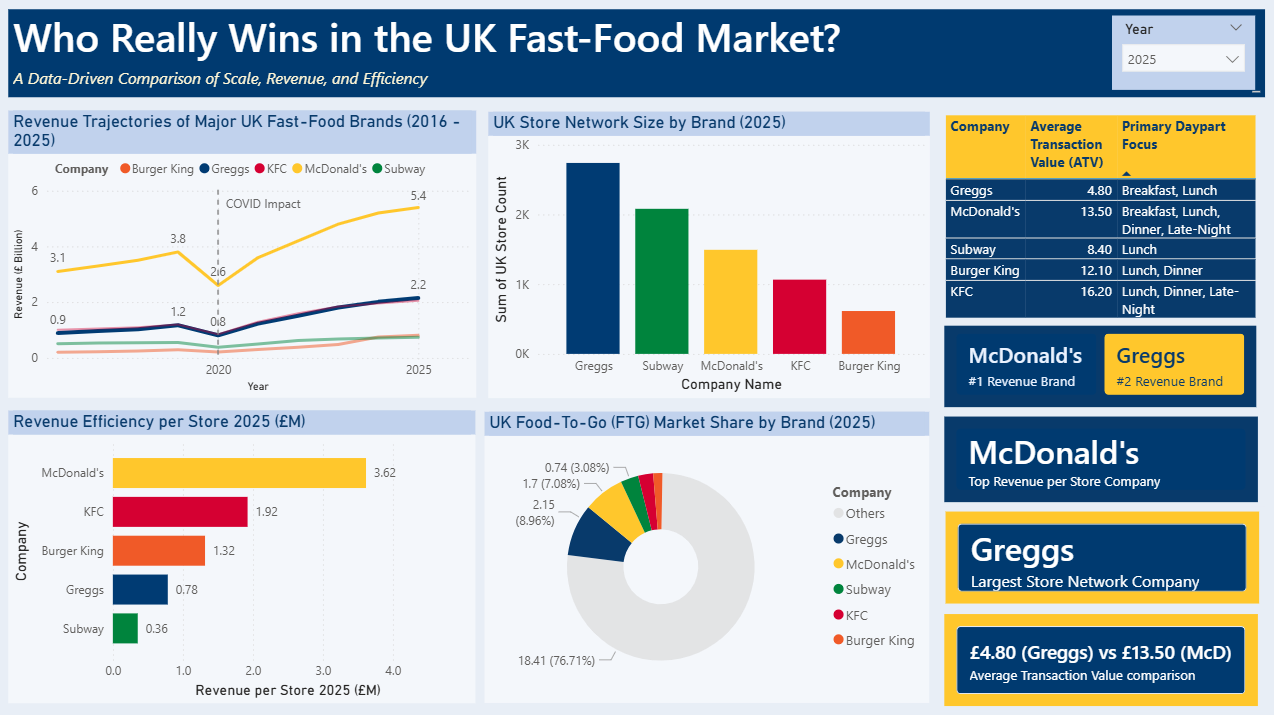

What the dashboard file says about the page in this screenshot:
{"tool":"powerbi","page":{"name":"Page 3","canvas":[1280,720],"ordinal":2},"visuals":[{"type":"shape","box":[0,0,1280.3,720.2],"z":0},{"type":"textbox","title":"Who Really Wins in the UK Fast-Food Market?","box":[11,11,1257.1,88],"z":1000},{"type":"cardVisual","fields":{"Data":["Table11.Top Revenue per Store Company"]},"box":[942.5,413.8,323.8,95],"z":2000},{"type":"cardVisual","fields":{"Data":["Table11.Largest Store Network Company"]},"box":[943.8,508.8,323.8,102.5],"z":3000},{"type":"cardVisual","fields":{"Data":["Table10.ATV Comparison Text"]},"box":[942.5,611.2,323.8,102.5],"z":4000},{"type":"cardVisual","fields":{"Data":["Table11.Market Leader UK","Table11.Top 2 UK Revenue Company"]},"box":[942.5,318.8,323.8,95],"z":6000},{"type":"lineChart","title":"Revenue Trajectories of Major UK Fast-Food Brands (2016 - 2025)","fields":{"Y":["Sum(Table11.UK Revenue (in Billions))"],"Series":["Table11.Company Name"],"Category":["Table11.Year"]},"box":[11,112.5,468.3,287.4],"z":7000},{"type":"clusteredBarChart","title":"Revenue Efficiency per Store 2025 (£M)","fields":{"Category":["Table11.Company Name"],"Y":["Table11.Revenue per Store 2025 (£M)"]},"box":[11.2,412.5,467.5,292.5],"z":8000},{"type":"tableEx","fields":{"Values":["Table10.Company ","Sum(Table10.Average Transaction Value(ATV))","Table10.Primary Daypart Focus"]},"box":[942.5,112.5,326.2,215],"z":9000},{"type":"clusteredColumnChart","title":"UK Store Network Size by Brand (2025)","fields":{"Category":["Table11.Company Name"],"Y":["Sum(Table11.UK Store Count)"]},"box":[491.6,113.7,441.4,286.1],"z":10000},{"type":"slicer","fields":{"Values":["Table11.Year"]},"box":[1115.2,17.1,143.1,74.6],"z":11000},{"type":"donutChart","title":"UK Food-To-Go (FTG) Market Share by Brand (2025)","fields":{"Category":["Table12.Company"],"Y":["Sum(Table12.FTG Revenue (£ Billion))"]},"box":[487.5,413.8,445,291.2],"z":12000}]}

Visuals, with their boxes in screenshot pixels (x1, y1, x2, y2), scaled from the page's 1280x720 canvas onto the 1274x715 screenshot:
shape: crop(0, 0, 1273, 714)
"Who Really Wins in the UK Fast-Food Market?" textbox: crop(11, 11, 1262, 98)
cardVisual - Table11.Top Revenue per Store Company: crop(938, 411, 1260, 505)
cardVisual - Table11.Largest Store Network Company: crop(939, 505, 1262, 607)
cardVisual - Table10.ATV Comparison Text: crop(938, 607, 1260, 709)
cardVisual - Table11.Market Leader UK x Table11.Top 2 UK Revenue Company: crop(938, 317, 1260, 411)
"Revenue Trajectories of Major UK Fast-Food Brands (2016 - 2025)" lineChart: crop(11, 112, 477, 397)
"Revenue Efficiency per Store 2025 (£M)" clusteredBarChart: crop(11, 410, 476, 700)
tableEx - Table10.Company  x Sum(Table10.Average Transaction Value(ATV)): crop(938, 112, 1263, 325)
"UK Store Network Size by Brand (2025)" clusteredColumnChart: crop(489, 113, 929, 397)
slicer - Table11.Year: crop(1110, 17, 1252, 91)
"UK Food-To-Go (FTG) Market Share by Brand (2025)" donutChart: crop(485, 411, 928, 700)
